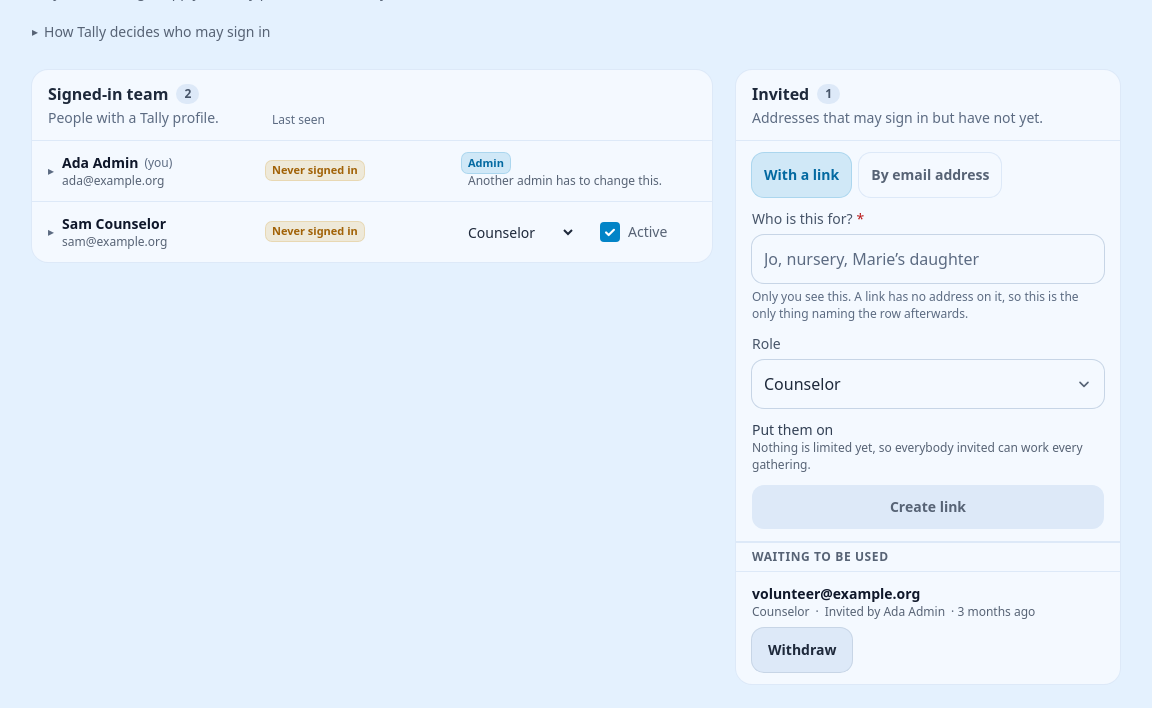
TeamPage — the way back from a delete › says so when the restore fails, rather than nothing
(page scrolled)
Click the button "Withdraw". click: (802, 650)
box: [752,628,852,672]
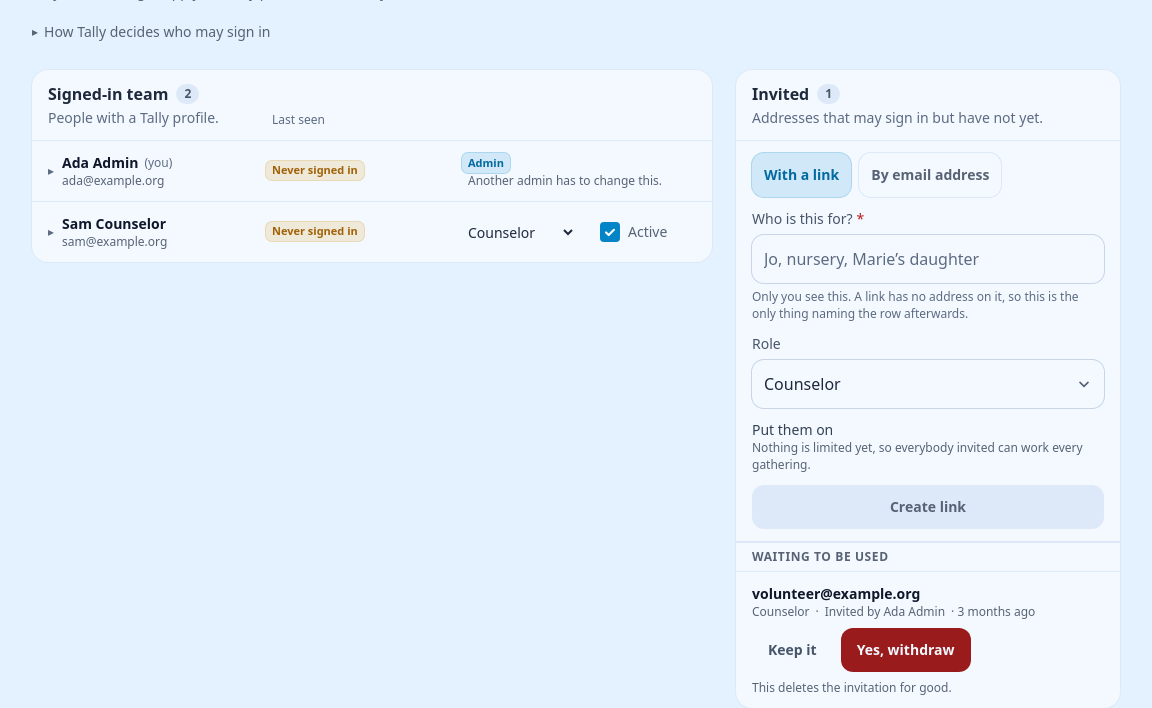
Click the button "Yes, withdraw". click: (906, 650)
box: [841,628,970,672]
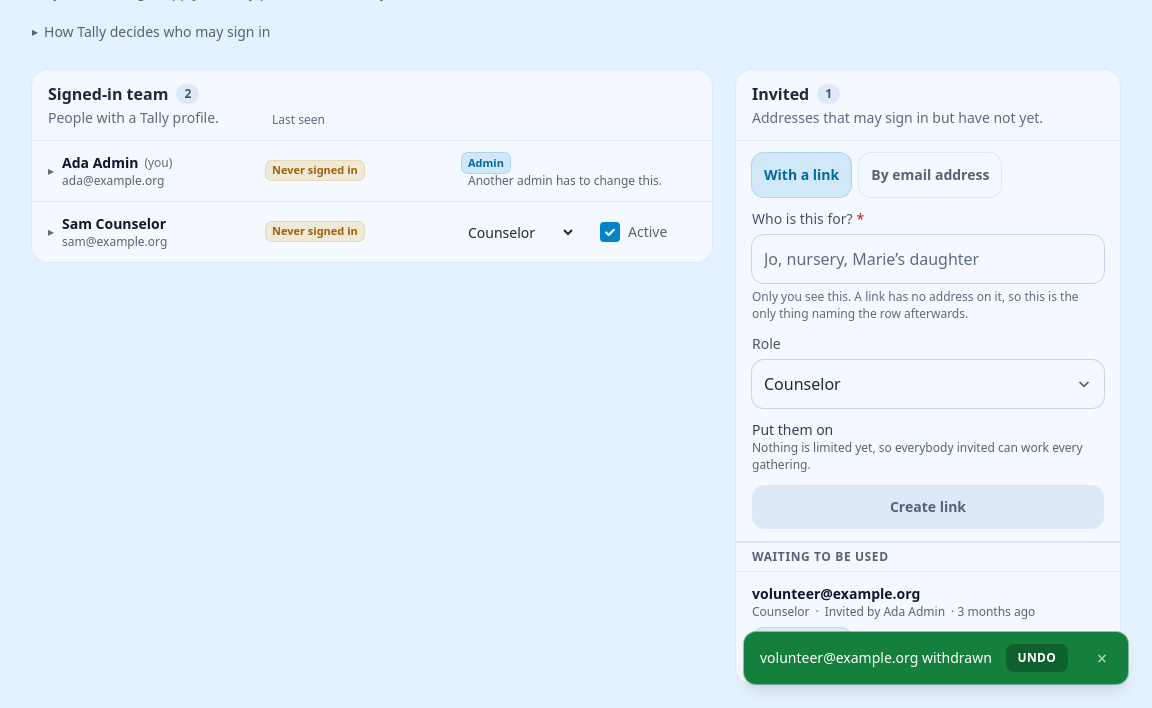
Click the button "Undo". click: (1037, 658)
box: [1006,644,1068,672]
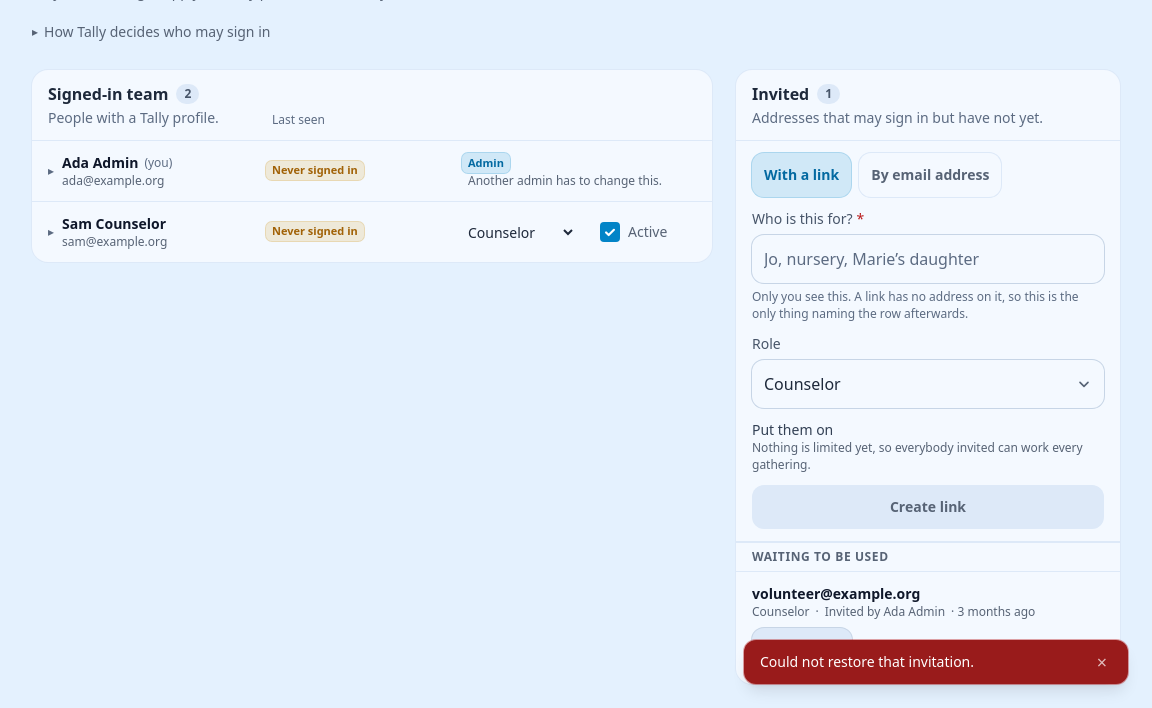
expect the text "Could not restore that invitation." is shown: met, box [760,652,974,671]
